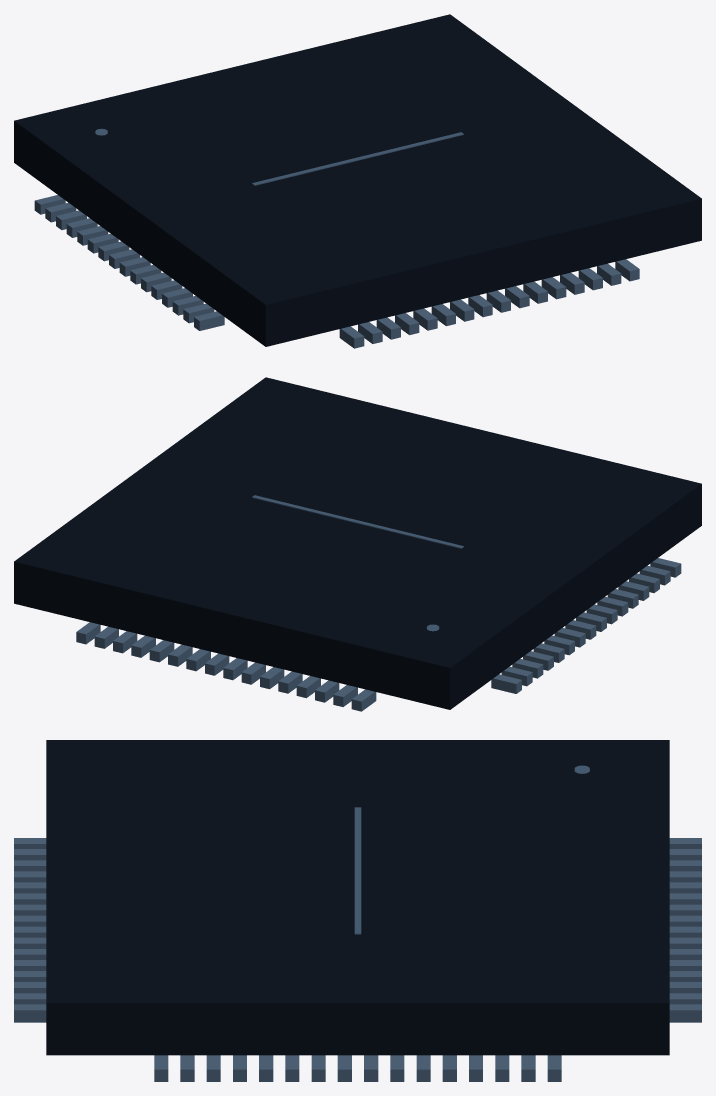
The picture shows the model from 3 angles, top to bottom: view 1: azimuth 30°, elevation 25°; view 2: azimuth 150°, elevation 25°; view 3: azimuth 270°, elevation 25°; orthographic projection. The views are drawn at different scales.
Parts seen in each view (by area): view 1: 001_L103_U1; view 2: 001_L103_U1; view 3: 001_L103_U1.
Part boxes in pixels (x1,y1,x2,y2): 001_L103_U1: [14, 14, 701, 348]; 001_L103_U1: [14, 377, 701, 711]; 001_L103_U1: [14, 740, 701, 1081].
Bounding box in the file's own units: 2.1 × 0.228 × 2.1.
